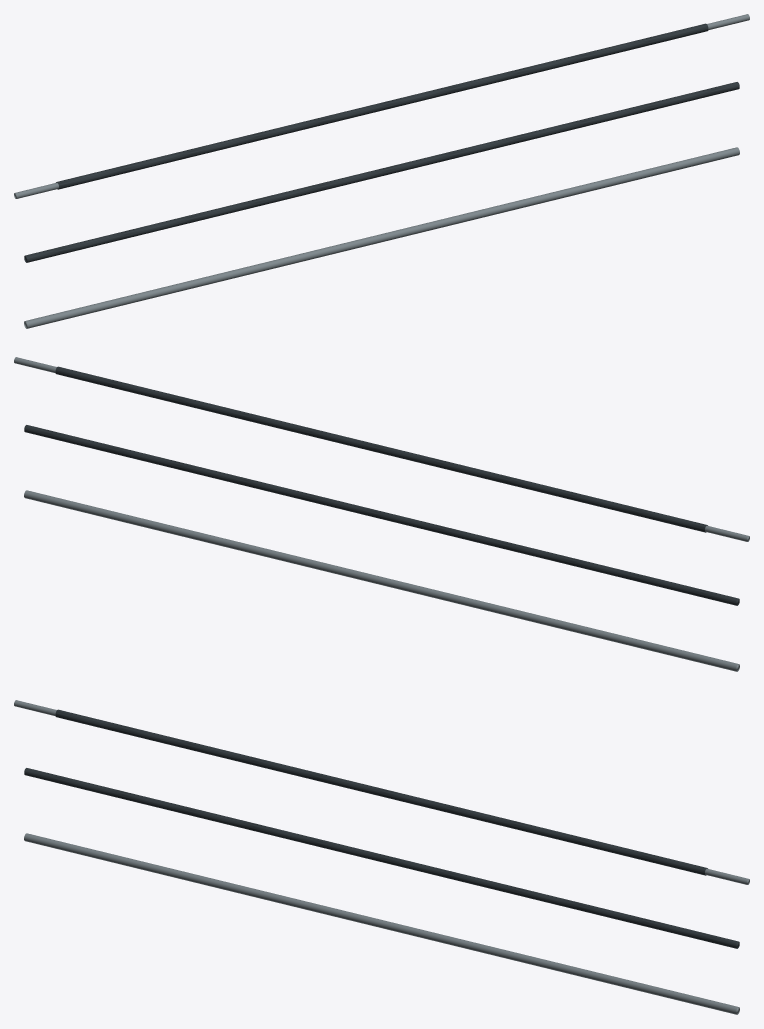
File: shaft_constructions.glb
The picture shows the model from 3 angles, top to bottom: view 1: azimuth 30°, elevation 25°; view 2: azimuth 150°, elevation 25°; view 3: azimuth 330°, elevation 25°; orthographic projection.
Visible parts, largest first — view 1: aluminium, aluminium_carbon, carbon; view 2: aluminium, aluminium_carbon, carbon; view 3: aluminium, aluminium_carbon, carbon.
Boxes of the visible parts, left/top/right/bottom form: aluminium: left=24, top=147, right=739, bottom=328; aluminium_carbon: left=14, top=14, right=749, bottom=198; carbon: left=24, top=82, right=739, bottom=262; aluminium: left=24, top=490, right=739, bottom=671; aluminium_carbon: left=14, top=357, right=749, bottom=541; carbon: left=24, top=425, right=739, bottom=605; aluminium: left=24, top=833, right=739, bottom=1014; aluminium_carbon: left=14, top=700, right=749, bottom=884; carbon: left=24, top=768, right=739, bottom=948.
Size of the model in its own units: 0.7 by 0.1266 by 0.0067.
Materials: 2 (1 with a texture image).
